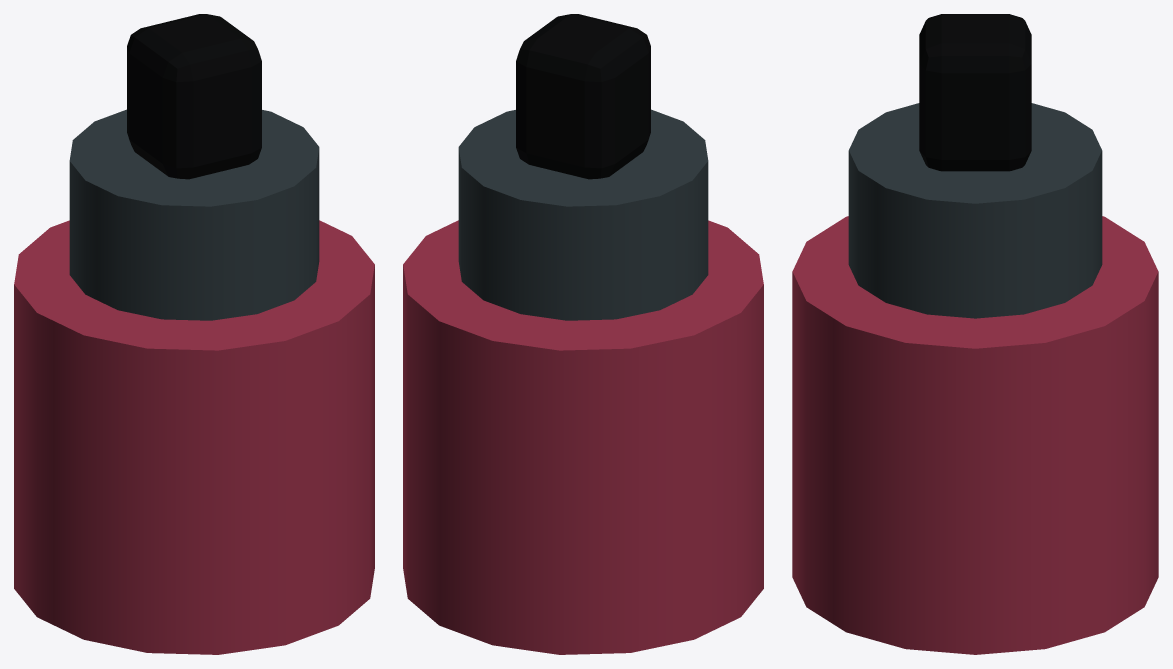
Rendered from Perfume.fbx.
The picture shows the model from 3 angles, left to right: view 1: azimuth 30°, elevation 25°; view 2: azimuth 150°, elevation 25°; view 3: azimuth 270°, elevation 25°; orthographic projection.
Visible parts, largest first — view 1: Perfume; view 2: Perfume; view 3: Perfume.
Part boxes in pixels (bbox=[...]): Perfume: bbox=[14, 14, 374, 654]; Perfume: bbox=[403, 14, 763, 654]; Perfume: bbox=[792, 14, 1158, 654].
Bounding box in the file's own units: 13 × 13 × 21.5.
